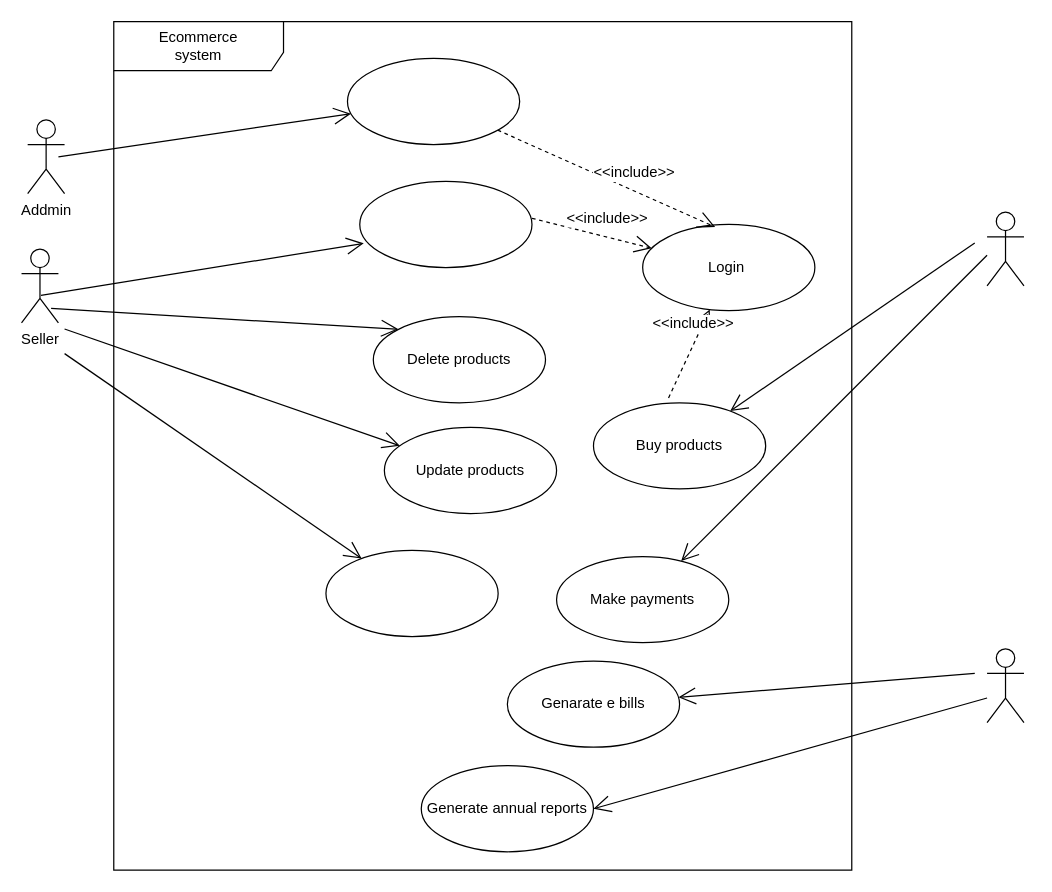
The diagram is 1052 pixels wide and 892 high, and some of its shapes have lost their labels. Here are the shapes that lost their labels. From the top down, the centre of each, then its label:
[433,101]: Add users
[445,224]: Add products
[1005,248]: Byer
[411,593]: sell products
[1005,685]: System
